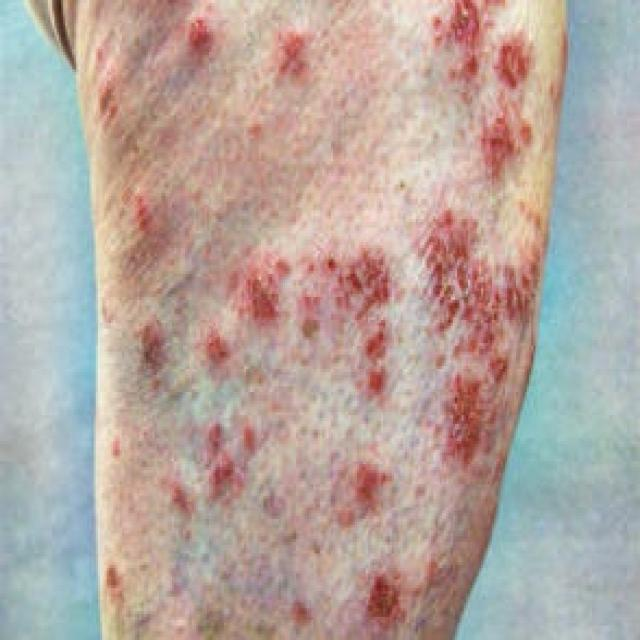Atopic-Dermatitis: (107, 18, 527, 586)
